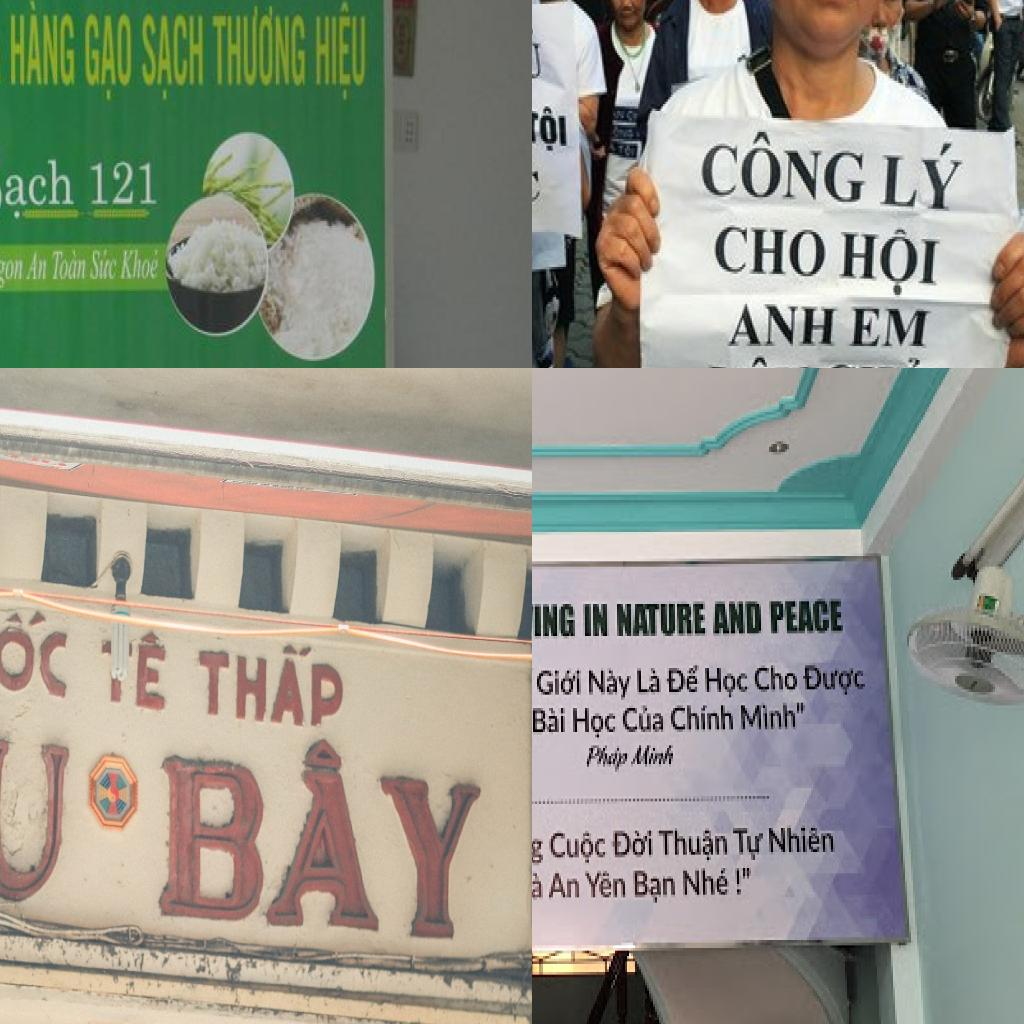text: (156, 728, 491, 946), (0, 666, 74, 913), (196, 636, 348, 736), (698, 125, 868, 206), (210, 6, 310, 96), (834, 223, 946, 302), (0, 593, 71, 705), (712, 218, 831, 283), (876, 134, 970, 214), (0, 135, 77, 229), (6, 0, 80, 93), (140, 8, 208, 105), (724, 300, 842, 353), (313, 0, 370, 106), (84, 10, 136, 108), (87, 151, 162, 214), (844, 302, 935, 353), (611, 596, 711, 639), (767, 593, 849, 639), (765, 820, 841, 865), (657, 825, 733, 868), (134, 627, 168, 715), (737, 700, 811, 737), (667, 700, 739, 737), (549, 825, 609, 868), (567, 700, 619, 748), (801, 660, 867, 697), (625, 868, 677, 913), (711, 598, 765, 638), (532, 101, 570, 157), (629, 738, 681, 778), (619, 698, 669, 738), (703, 657, 749, 700), (532, 596, 579, 638), (537, 660, 585, 700), (585, 660, 633, 700), (751, 660, 797, 700), (547, 868, 585, 916), (816, 353, 936, 368), (577, 742, 631, 774), (119, 243, 162, 283), (729, 823, 767, 868), (609, 826, 659, 858), (49, 245, 88, 286), (585, 871, 629, 905), (532, 700, 569, 740), (667, 658, 703, 698), (88, 245, 121, 286), (705, 357, 816, 368), (0, 246, 25, 292), (579, 601, 611, 636), (633, 660, 665, 695), (24, 246, 49, 286), (532, 865, 549, 915), (532, 827, 547, 865)
